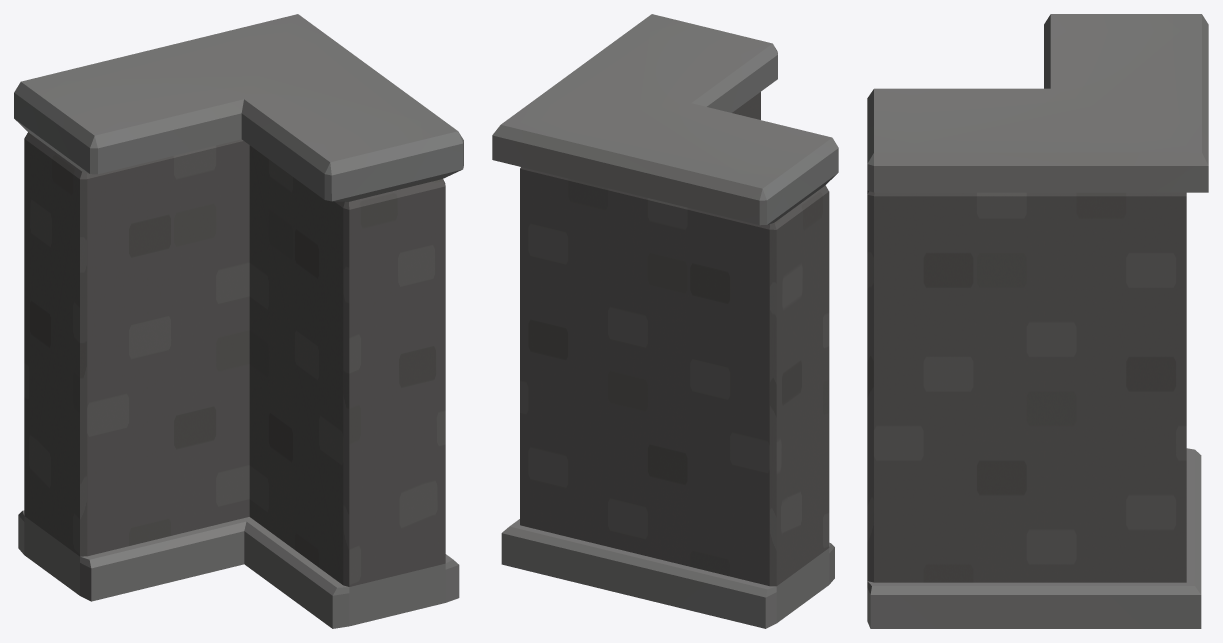
File: HighWall_3_2.glb
3 views of the same model, side by side, from view 1: azimuth 30°, elevation 25°; view 2: azimuth 150°, elevation 25°; view 3: azimuth 270°, elevation 25° (orthographic). The views are drawn at different scales.
Visible parts, largest first — view 1: HighWall_3_2; view 2: HighWall_3_2; view 3: HighWall_3_2.
Part boxes in pixels (x1,y1,x2,y2): HighWall_3_2: (14, 14, 463, 628); HighWall_3_2: (492, 14, 838, 628); HighWall_3_2: (867, 14, 1208, 628).
Size of the model in its own units: 1.32 by 2.03 by 1.32.
2 materials, 2 textured.
